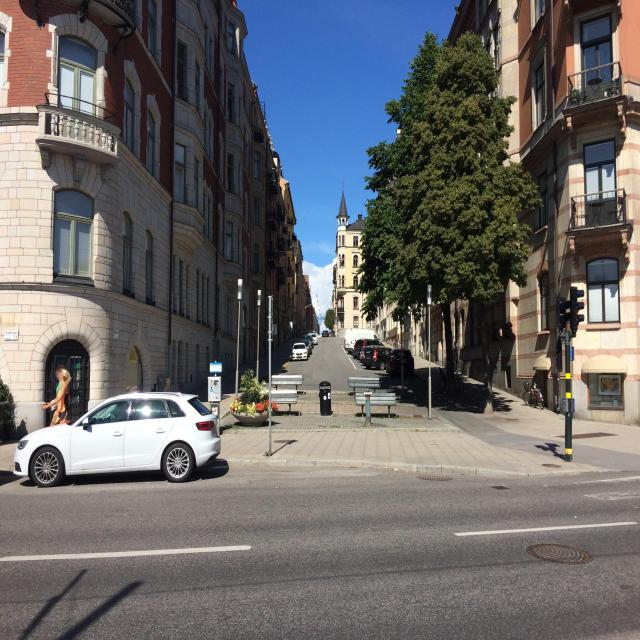Good: (523, 540, 600, 570), (413, 473, 457, 486), (539, 461, 563, 472)
